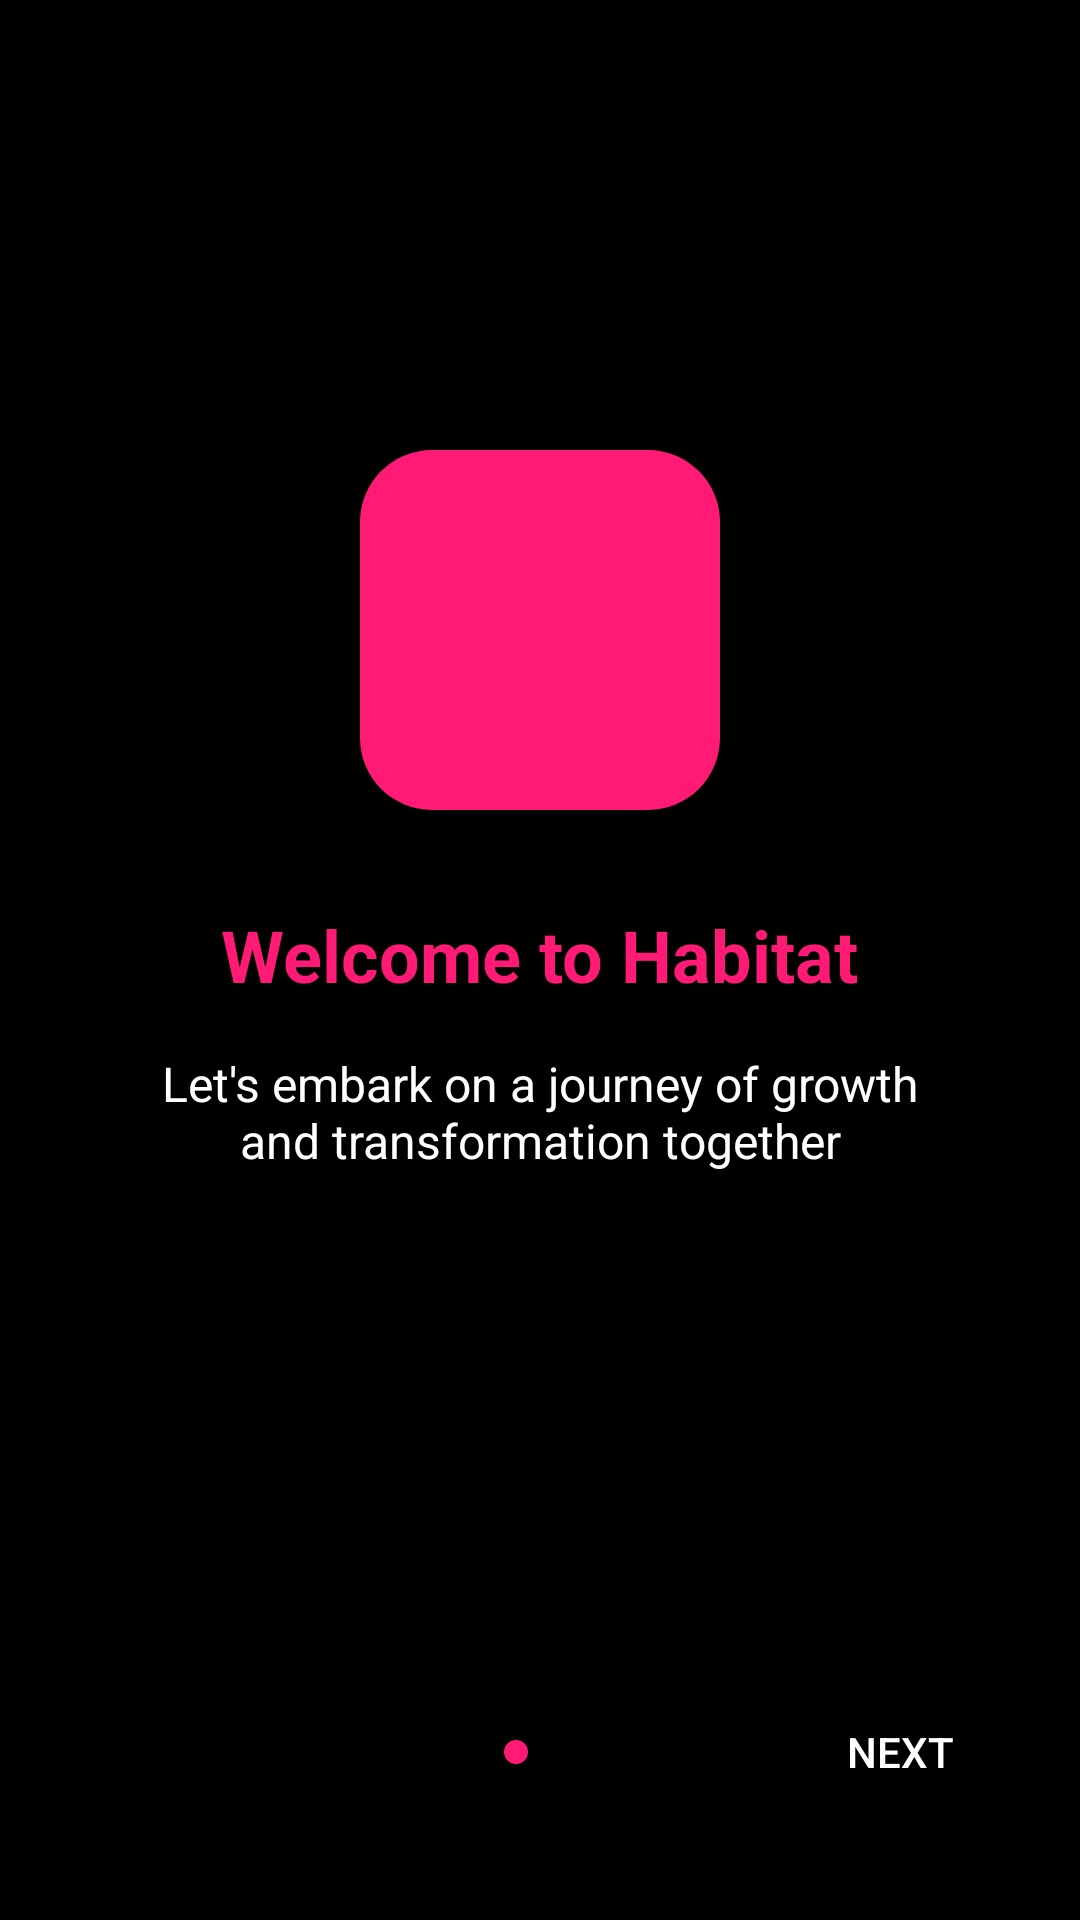

Locate icon controls on the screen. Image size 1080*1920, boxes as [x1,y1,x2,y2].
dot: [504,1740,528,1764]
